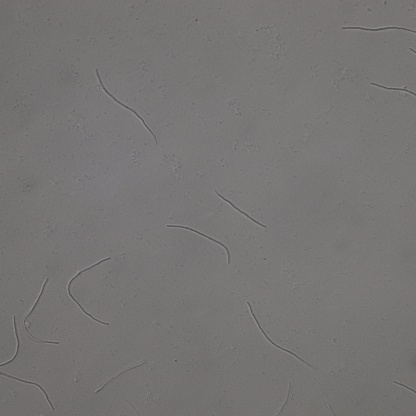Sensitive: (94, 68, 157, 144), (248, 302, 314, 369), (68, 257, 113, 326), (168, 223, 232, 262), (23, 278, 59, 345), (1, 372, 54, 409), (216, 190, 266, 228), (95, 362, 145, 393), (1, 316, 20, 367), (341, 21, 416, 33), (372, 81, 416, 96), (277, 381, 292, 416), (394, 382, 416, 394)
